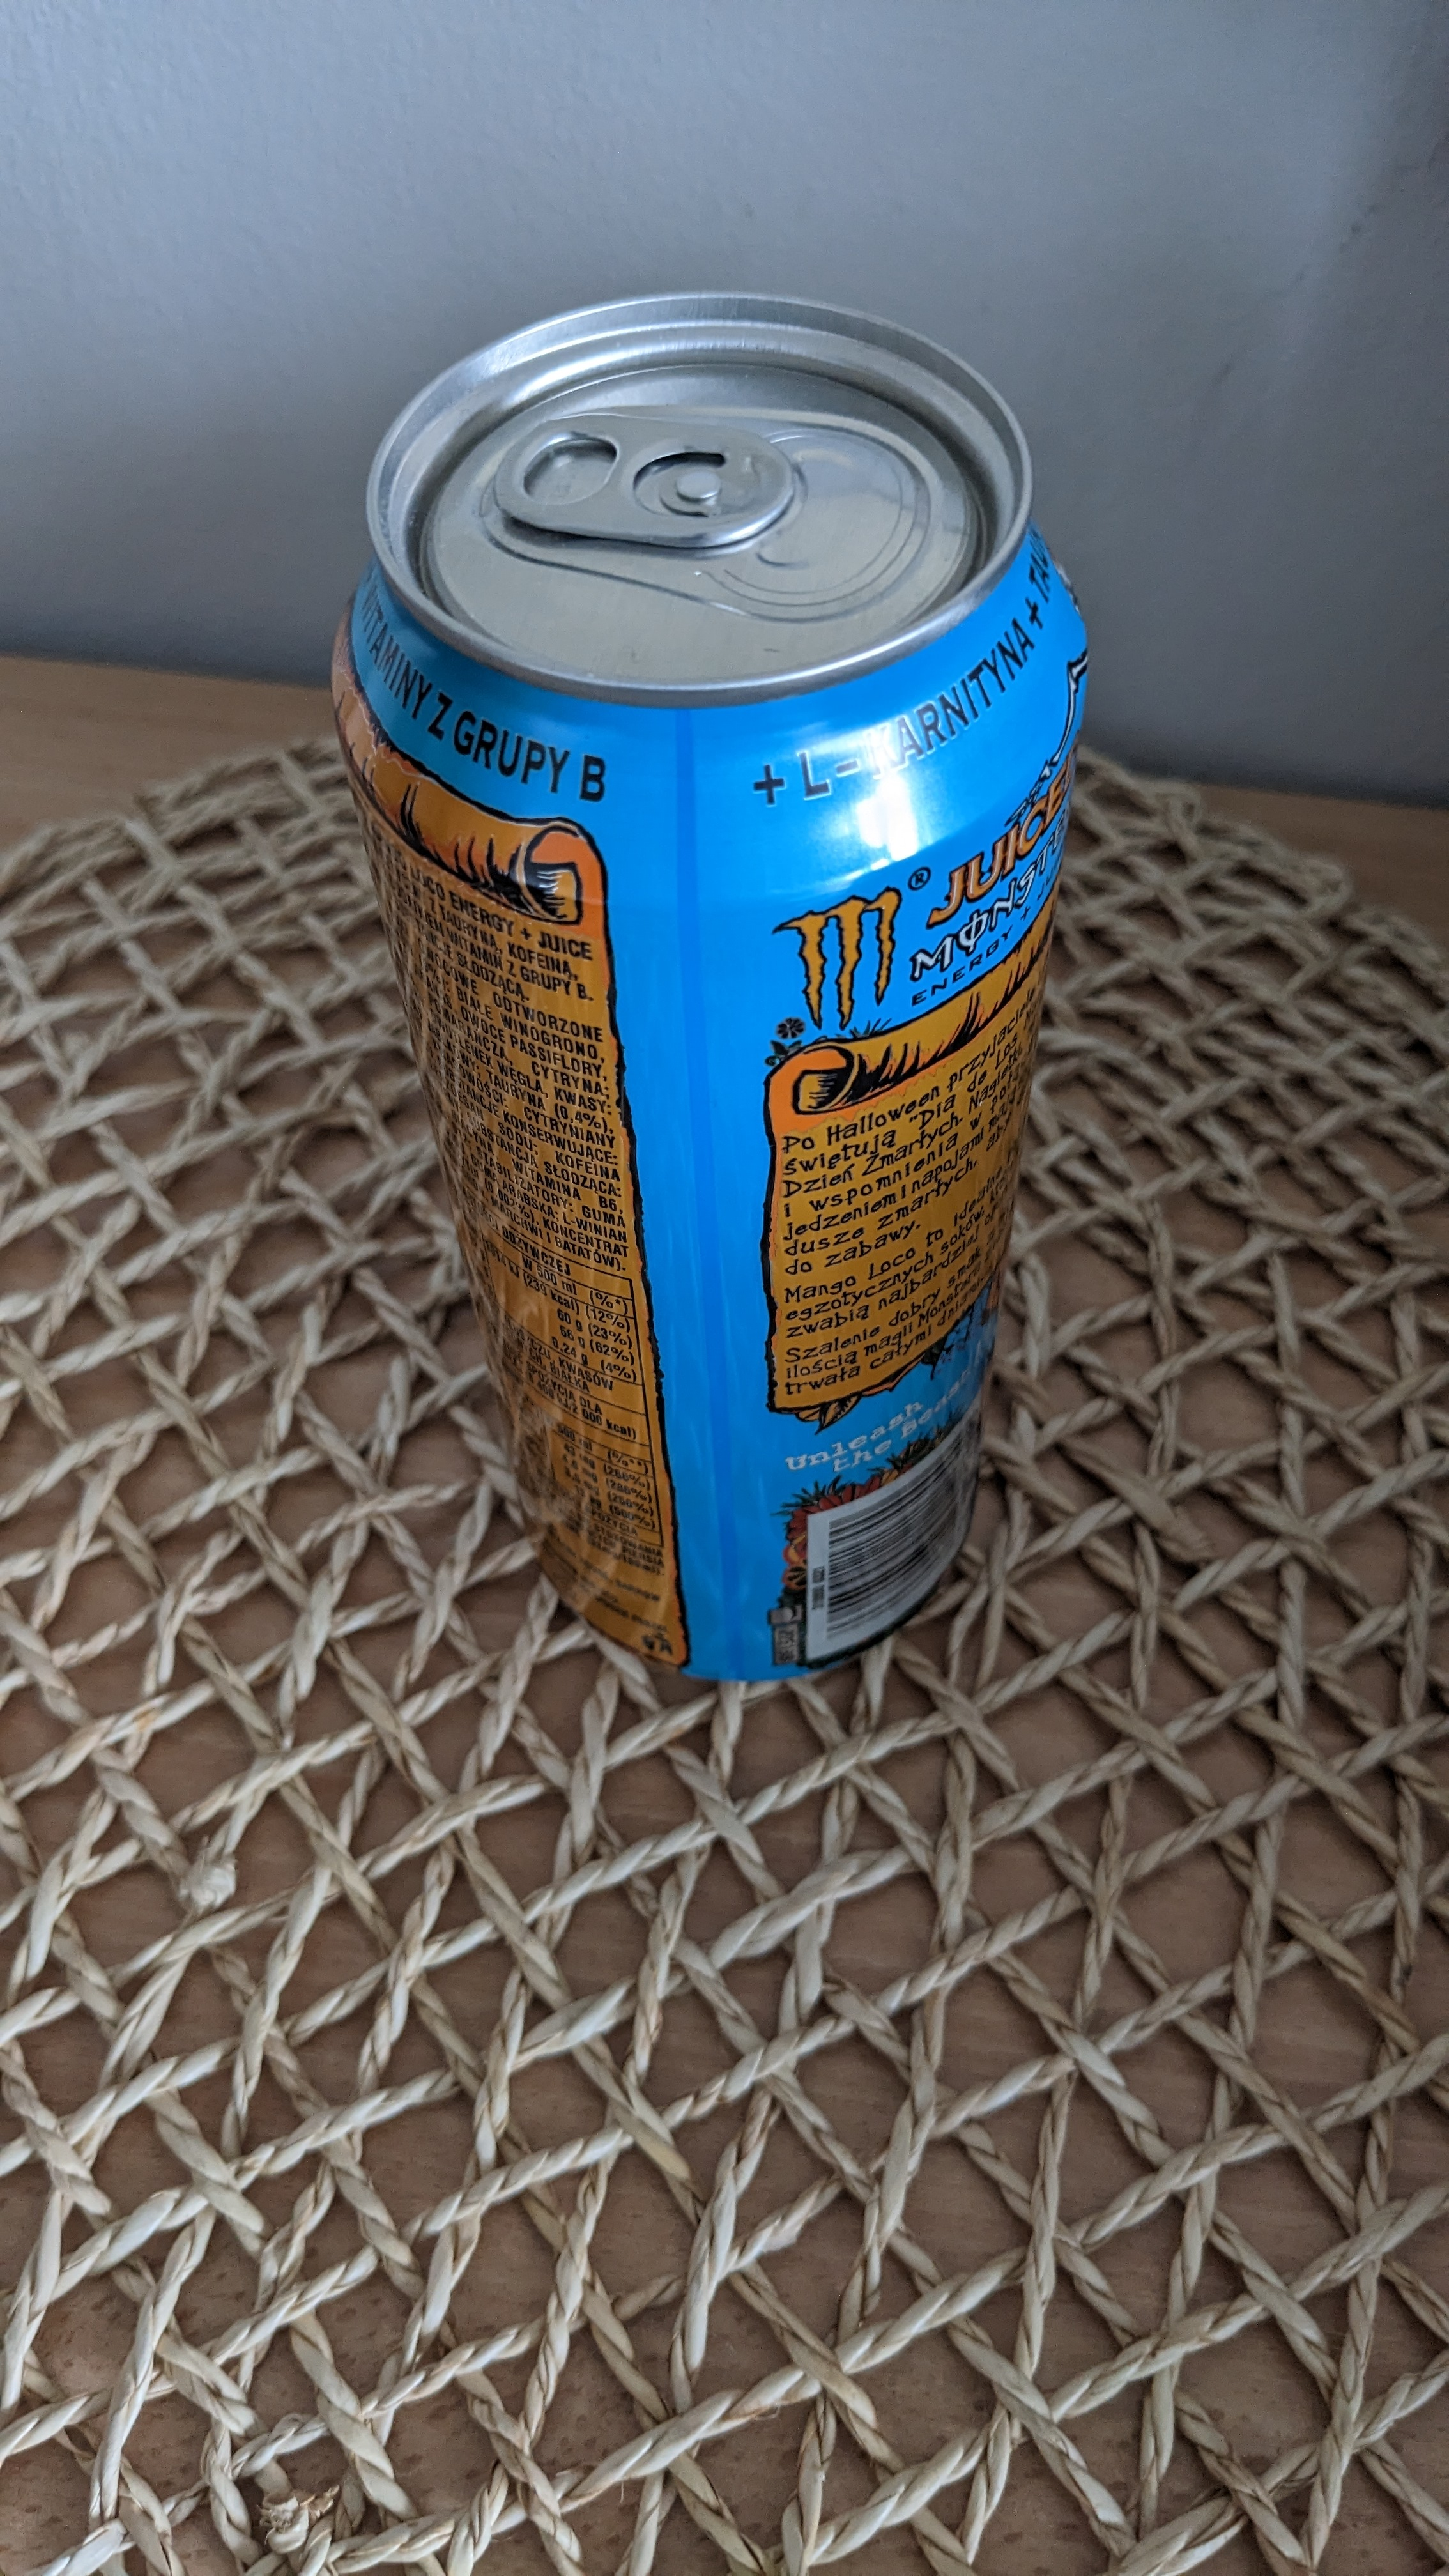monster: (308, 262, 1111, 1709)
